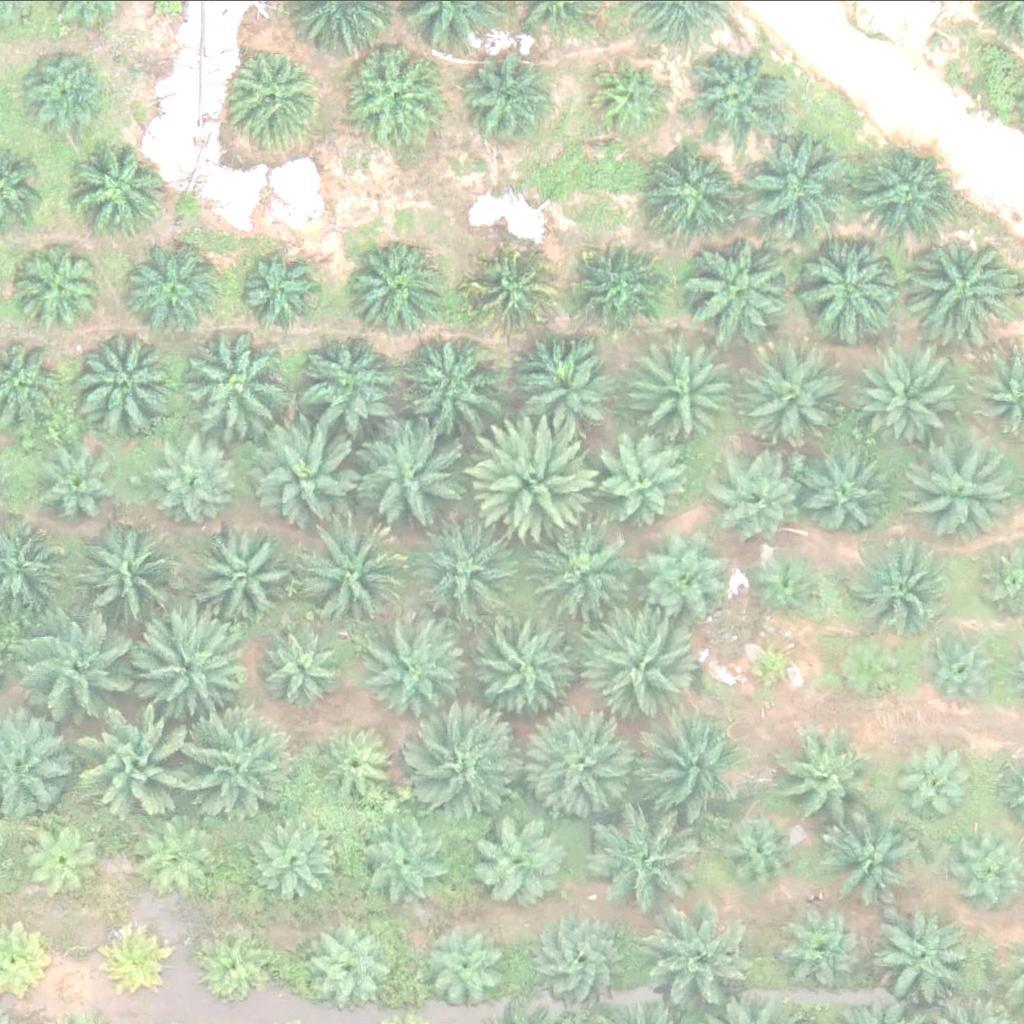Kelapa_Sawit: (471, 411, 597, 536), (349, 421, 463, 534), (78, 520, 192, 633), (737, 132, 850, 245), (681, 231, 794, 344), (792, 227, 905, 340), (297, 519, 410, 632), (409, 515, 522, 628), (464, 608, 577, 721), (525, 711, 638, 824), (180, 327, 293, 440), (24, 603, 137, 716), (182, 704, 295, 817), (255, 414, 368, 527), (627, 712, 741, 824), (65, 322, 179, 434), (86, 699, 200, 811), (904, 229, 1017, 341), (365, 616, 478, 728), (582, 611, 695, 723), (416, 714, 529, 826), (633, 901, 746, 1013), (129, 609, 242, 721), (858, 146, 959, 246), (342, 234, 443, 334), (401, 327, 502, 427), (638, 341, 739, 441), (750, 346, 851, 446), (858, 350, 959, 450), (530, 524, 631, 624), (631, 522, 732, 622), (779, 730, 880, 830), (828, 816, 929, 916), (600, 816, 701, 916), (876, 906, 977, 1006), (72, 139, 173, 239), (194, 521, 295, 621), (845, 531, 946, 631), (343, 43, 443, 143), (688, 40, 788, 140), (308, 332, 408, 432), (508, 342, 608, 442), (910, 439, 1010, 539), (466, 809, 566, 909), (534, 911, 634, 1011), (228, 45, 328, 145), (128, 237, 228, 337), (460, 58, 548, 146), (655, 147, 743, 235), (466, 247, 554, 335), (718, 454, 806, 542), (315, 721, 403, 809), (717, 807, 805, 895), (308, 926, 396, 1014), (22, 240, 110, 328), (235, 248, 323, 336), (260, 621, 348, 709), (16, 818, 104, 906), (139, 813, 227, 901), (805, 452, 894, 539), (365, 822, 454, 909), (574, 245, 662, 332), (598, 437, 686, 524), (920, 620, 1008, 707), (424, 925, 512, 1012), (786, 903, 874, 990), (24, 50, 112, 137), (49, 436, 137, 523), (154, 431, 242, 518), (248, 815, 336, 902), (194, 932, 270, 1007), (903, 749, 979, 824), (751, 548, 827, 623), (591, 59, 667, 134), (838, 629, 914, 704), (98, 917, 174, 992), (739, 635, 802, 697)
